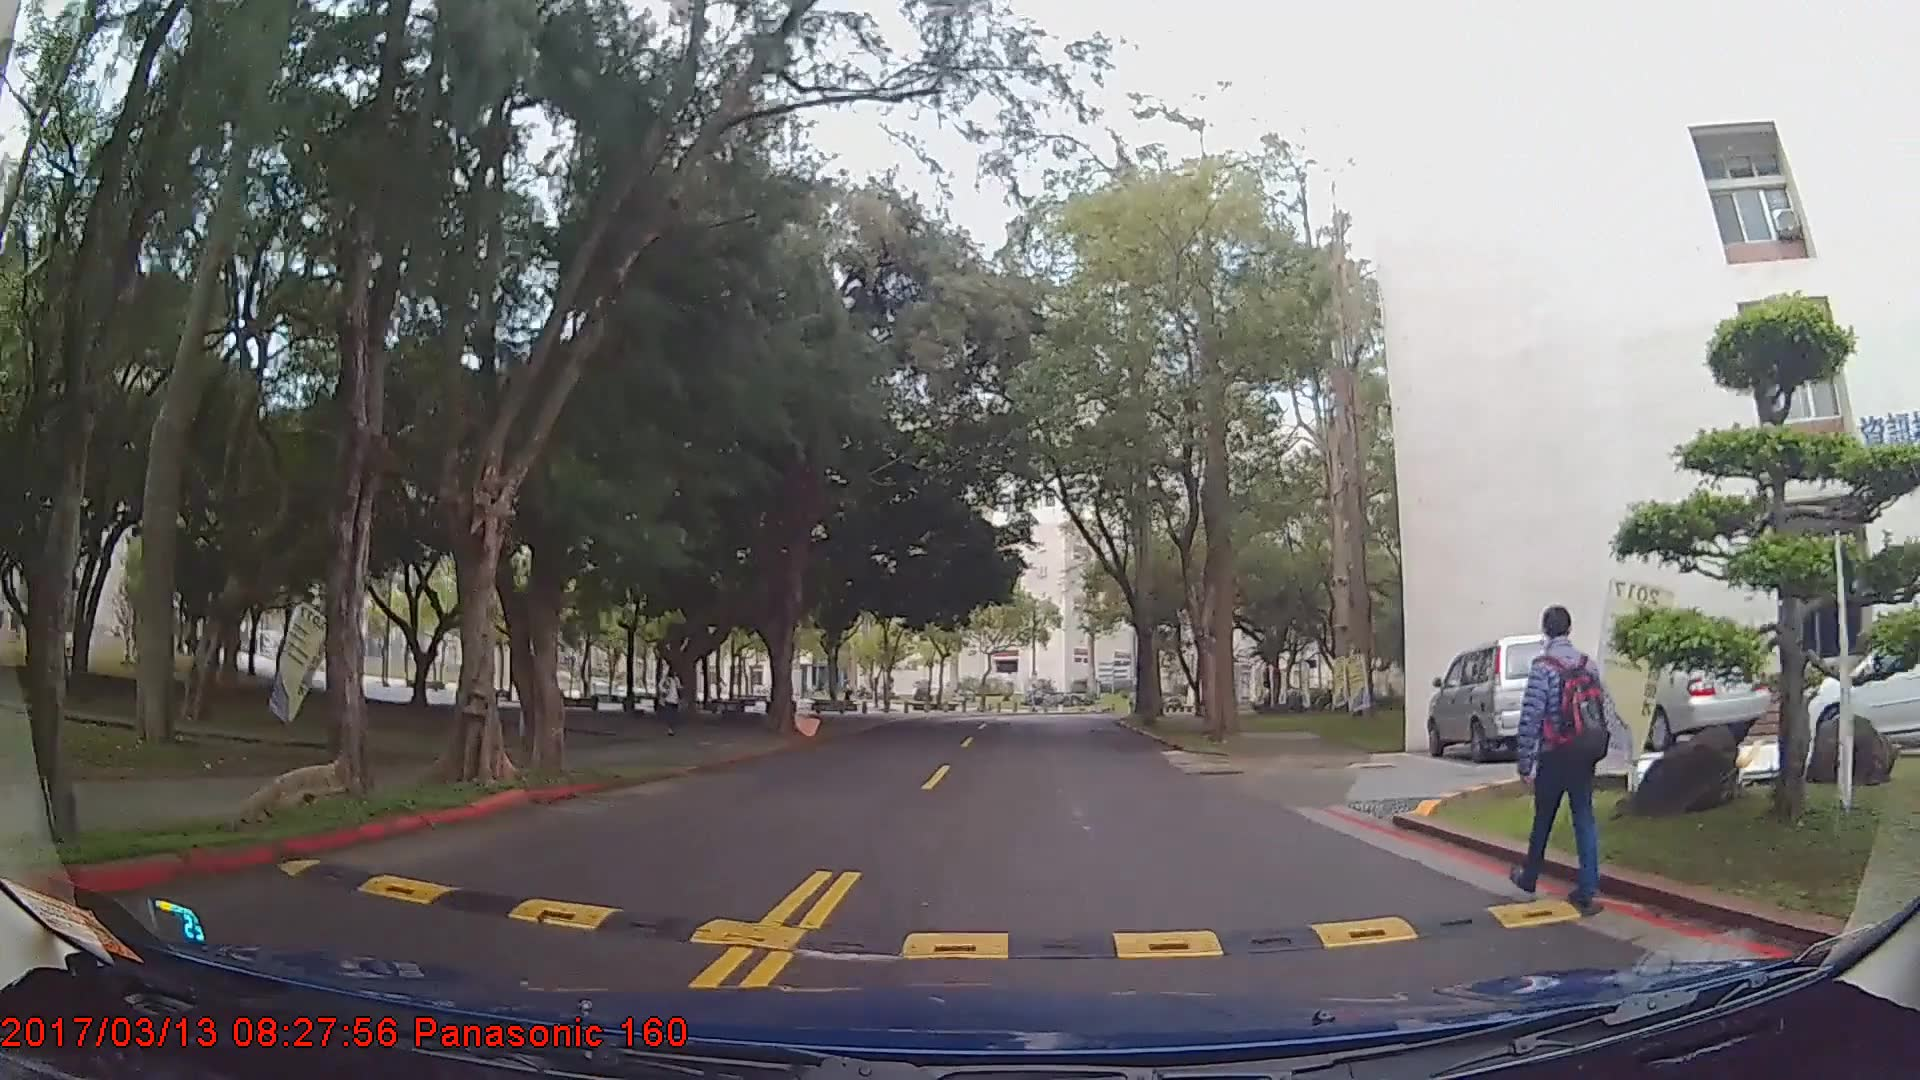pedestrian: (1515, 597, 1612, 908), (656, 665, 687, 736)
vehicle: (1425, 630, 1577, 758)
